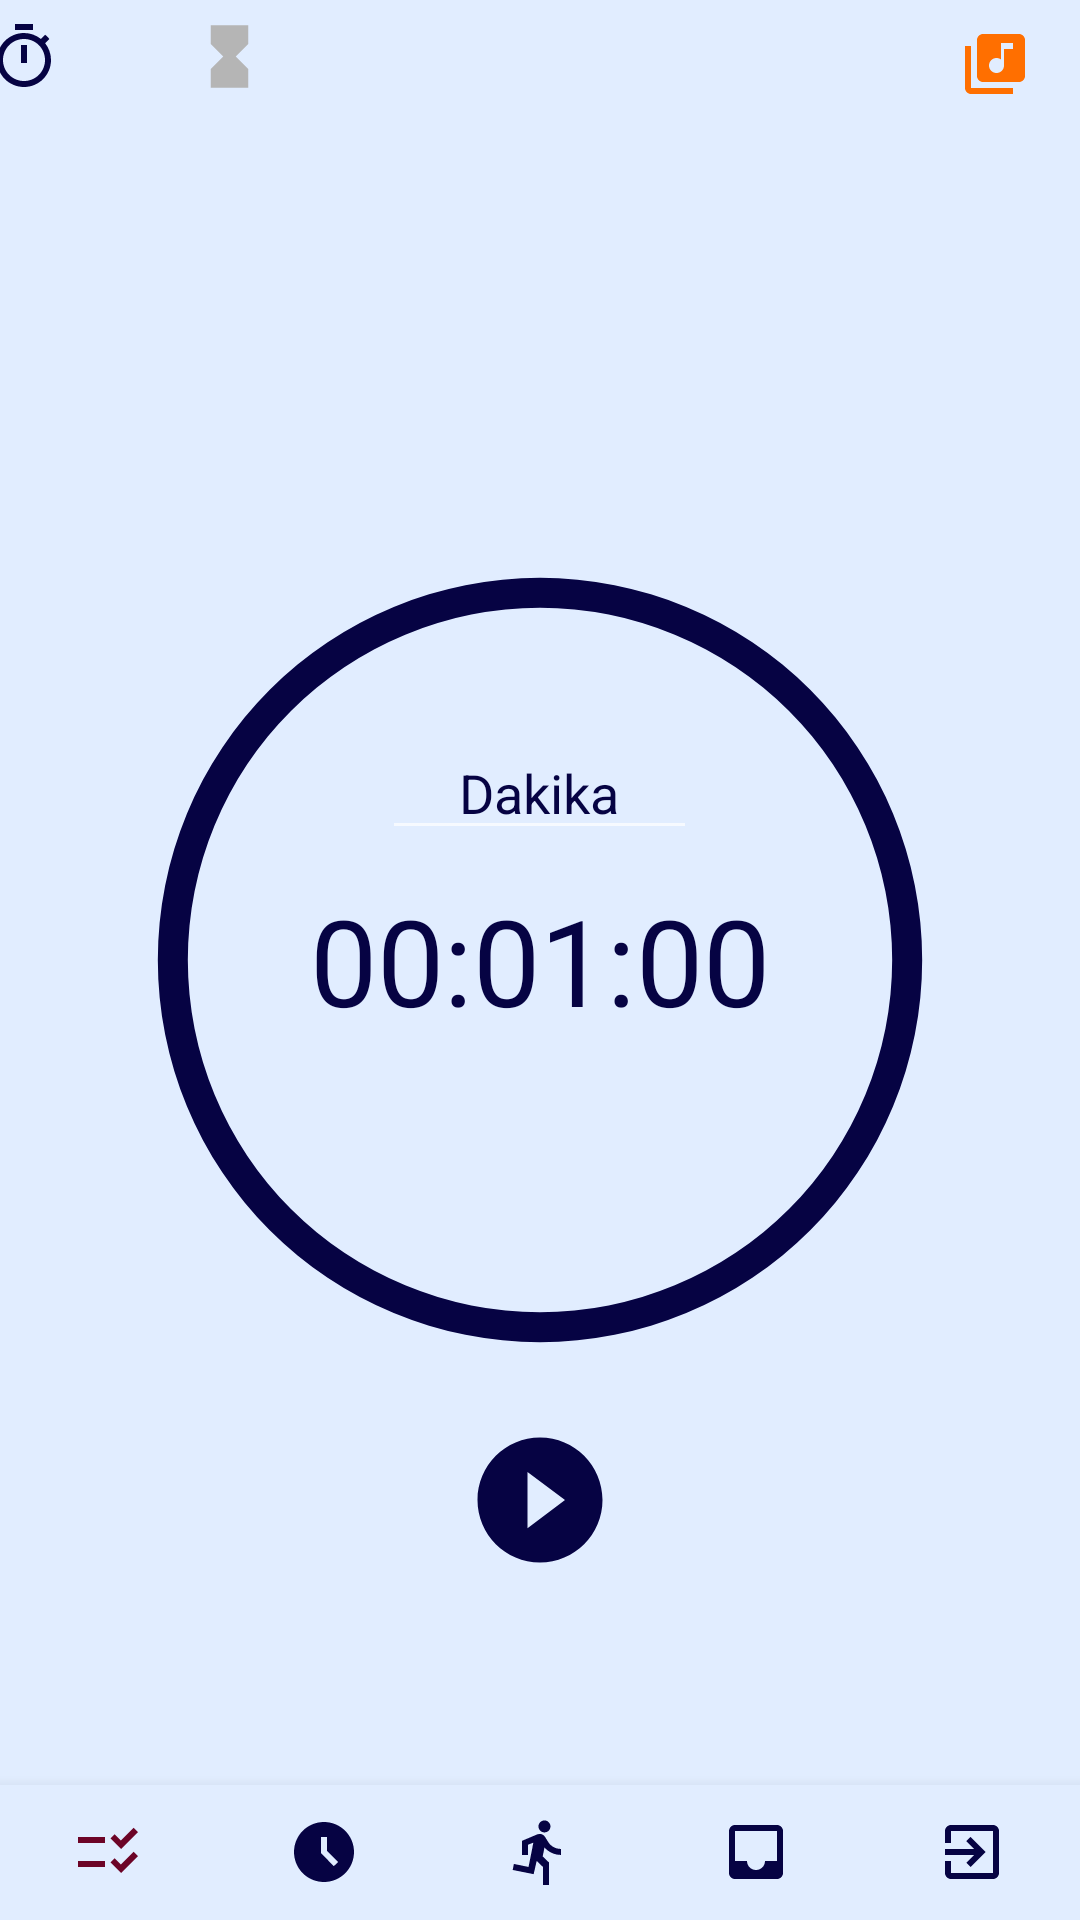

Named icons in this screenshot (1080px x 1920px) and their bounding boxes, (x1, y1, x2, y2):
play circle: (477, 1437, 603, 1563)
